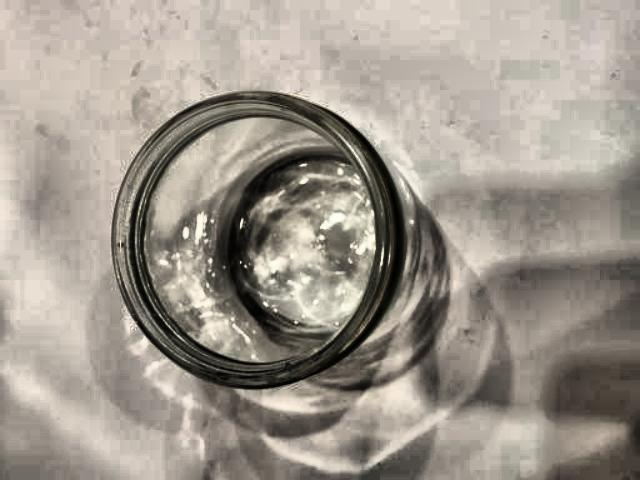Bottles: (84, 63, 465, 390)
